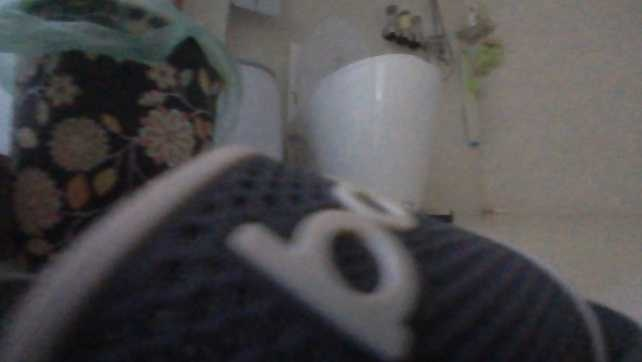toilet: (280, 9, 440, 208)
